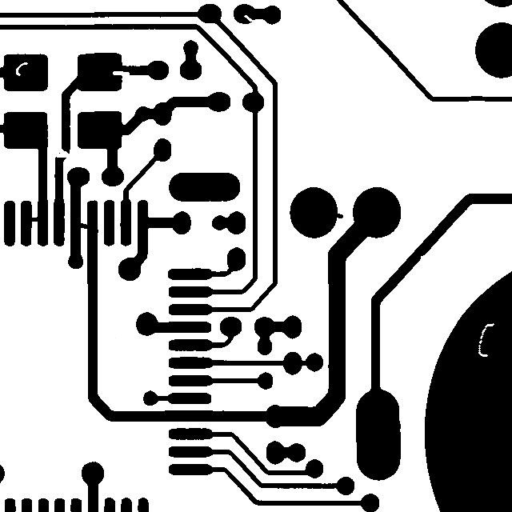mousebite: (236, 7, 264, 31), (105, 63, 137, 83)
open: (48, 141, 78, 165)
pin-hole: (470, 315, 502, 364), (8, 54, 35, 83)
short: (67, 214, 96, 236), (18, 209, 49, 229)
spur: (323, 205, 350, 226)
